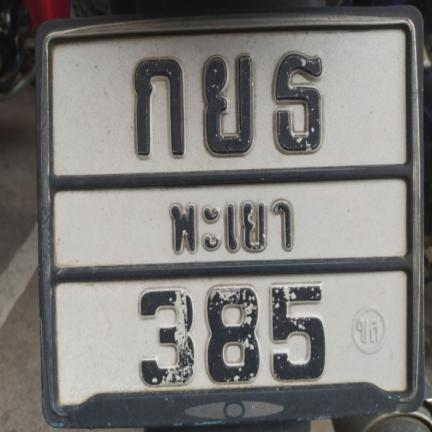3: (133, 289, 193, 386)
5: (268, 282, 327, 382)
8: (203, 283, 261, 386)
A01: (126, 53, 188, 161)
A24: (266, 46, 333, 155)
A34: (197, 52, 256, 159)
PYO: (162, 190, 302, 256)
